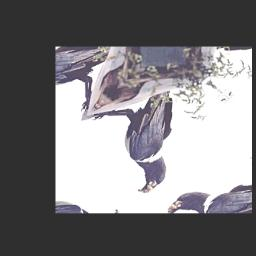Crow: (69, 67, 223, 198)
